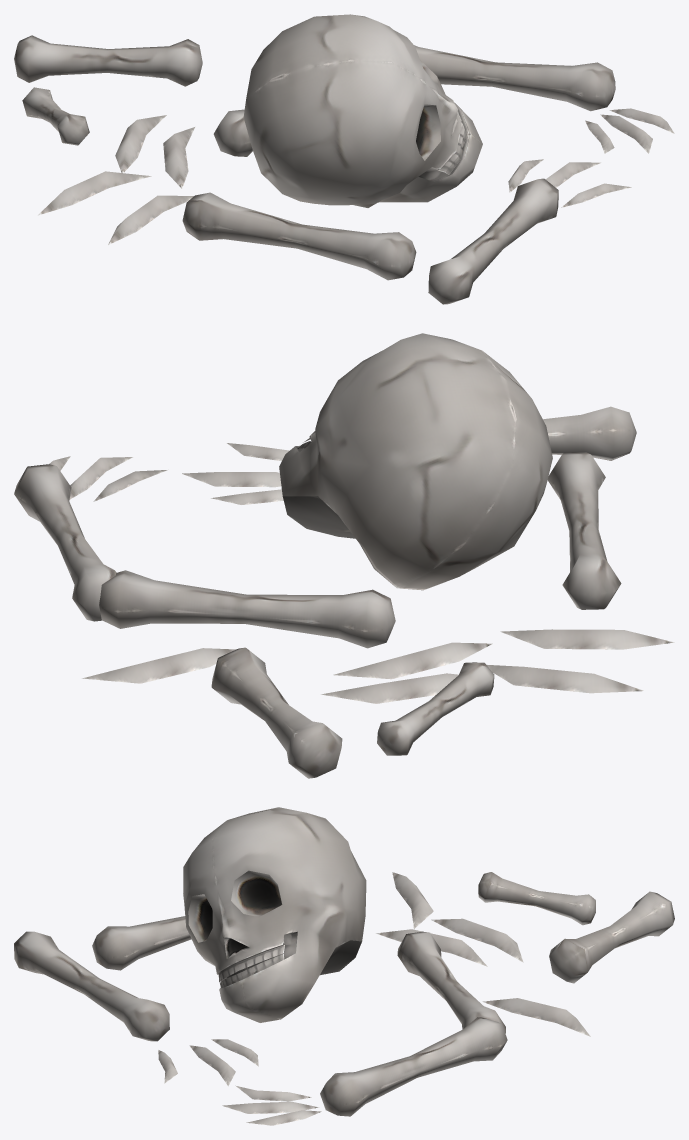
Rendered from Skeleton_HD.fbx.
The picture shows the model from 3 angles, top to bottom: view 1: azimuth 30°, elevation 25°; view 2: azimuth 150°, elevation 25°; view 3: azimuth 270°, elevation 25°; orthographic projection. The views are drawn at different scales.
Parts seen in each view (by area): view 1: skeleton; view 2: skeleton; view 3: skeleton.
Boxes of the visible parts, <box> form: skeleton: <box>14,14,674,304</box>; skeleton: <box>14,333,674,778</box>; skeleton: <box>14,807,674,1125</box>.
Size of the model in its own units: 1.21 by 0.3809 by 1.32.
